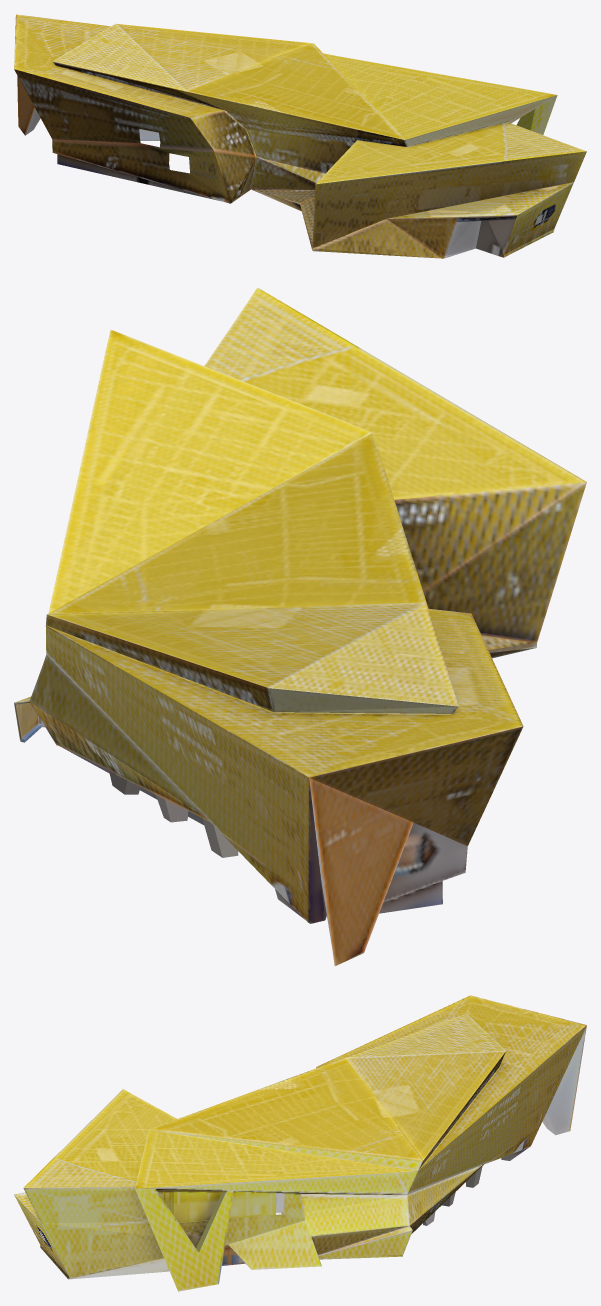
The picture shows the model from 3 angles, top to bottom: view 1: azimuth 30°, elevation 25°; view 2: azimuth 150°, elevation 25°; view 3: azimuth 270°, elevation 25°; orthographic projection. The views are drawn at different scales.
Parts seen in each view (by area): view 1: Plane.005; view 2: Plane.005; view 3: Plane.005.
Part boxes in pixels (box(x1,y1,x2,y2)): Plane.005: box(14, 14, 586, 258); Plane.005: box(14, 287, 586, 965); Plane.005: box(14, 995, 586, 1291).
Bounding box in the file's own units: 103 × 28.37 × 129.
1 material, 1 textured.
